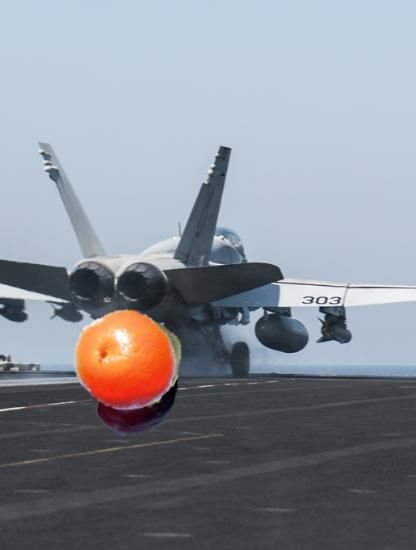Kohlrabi: (81, 309, 182, 410)
Plum: (90, 345, 184, 439)
Tangelo: (71, 309, 177, 415)
